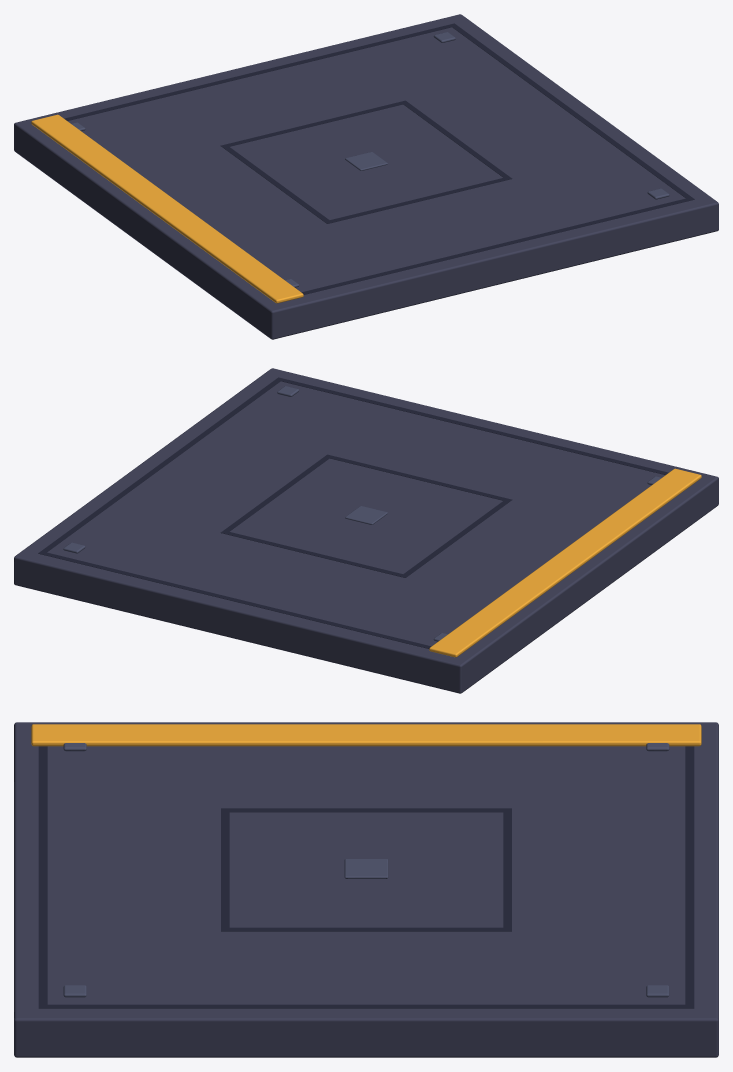
File: floor.plate.WESN+sub+hzx.glb
3 renders of one model, top to bottom at view 1: azimuth 30°, elevation 25°; view 2: azimuth 150°, elevation 25°; view 3: azimuth 270°, elevation 25°, orthographic. The views are drawn at different scales.
Parts seen in each view (by area): view 1: floor.plate.WESN+sub+hzx; view 2: floor.plate.WESN+sub+hzx; view 3: floor.plate.WESN+sub+hzx.
Part boxes in pixels (<box>): floor.plate.WESN+sub+hzx: <box>14,14,718,339</box>; floor.plate.WESN+sub+hzx: <box>14,368,718,693</box>; floor.plate.WESN+sub+hzx: <box>14,722,718,1057</box>.
Size of the model in its own units: 0.968 by 0.068 by 0.968.
